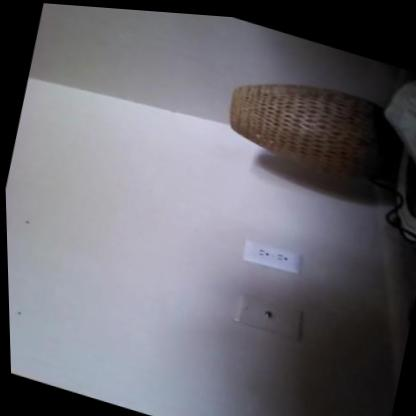OUTLET: (241, 237, 304, 277)
